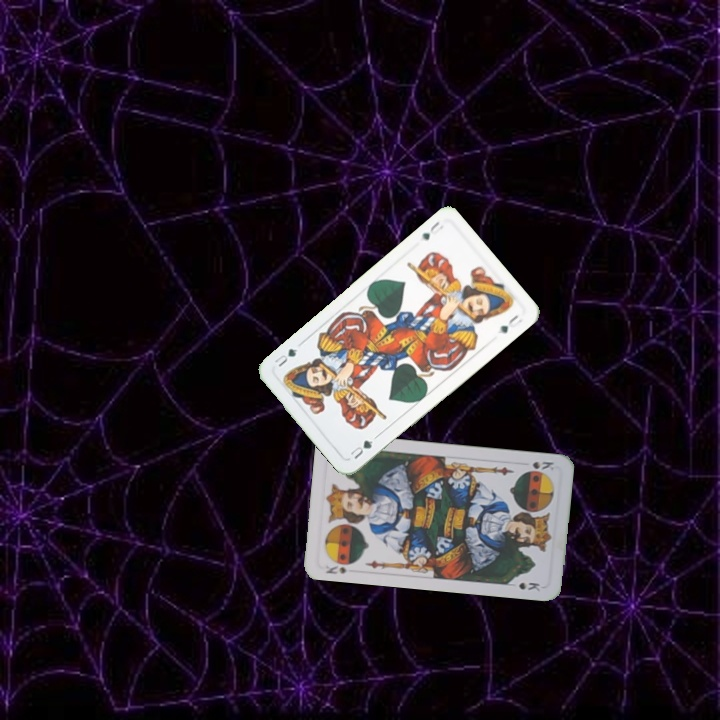GU: (346, 436, 376, 462), (417, 217, 446, 243)
SK: (322, 561, 359, 576), (528, 457, 556, 473)
